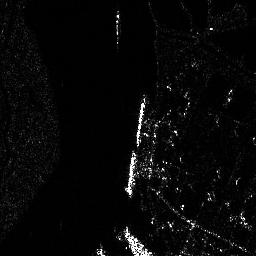ship: (123, 226, 153, 256), (123, 149, 138, 196), (135, 95, 146, 147)
